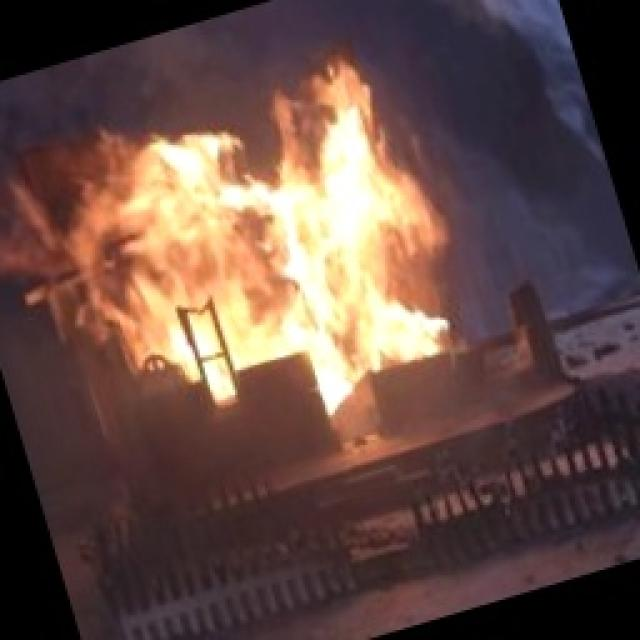fire: (1, 35, 466, 440)
